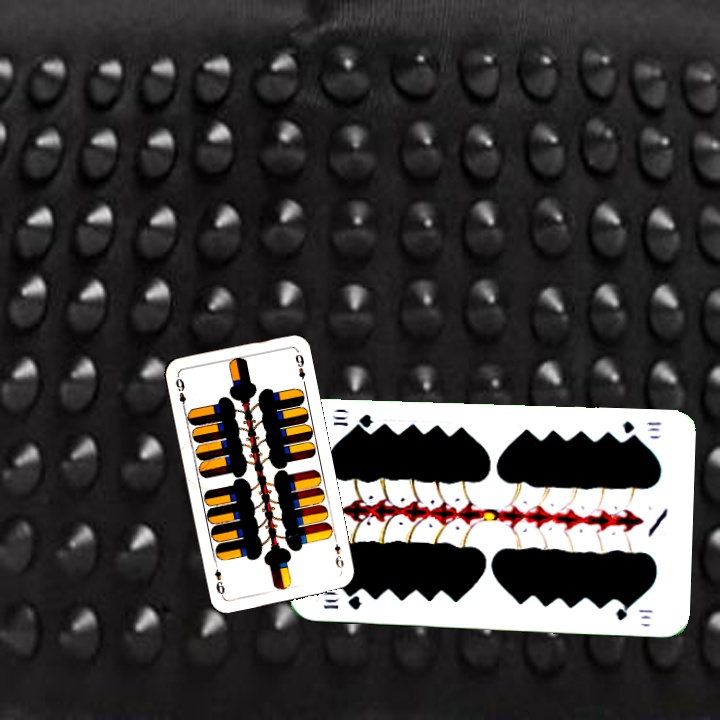E9: (171, 374, 189, 413), (330, 540, 346, 574)
G10: (619, 417, 665, 442), (319, 592, 364, 612)
